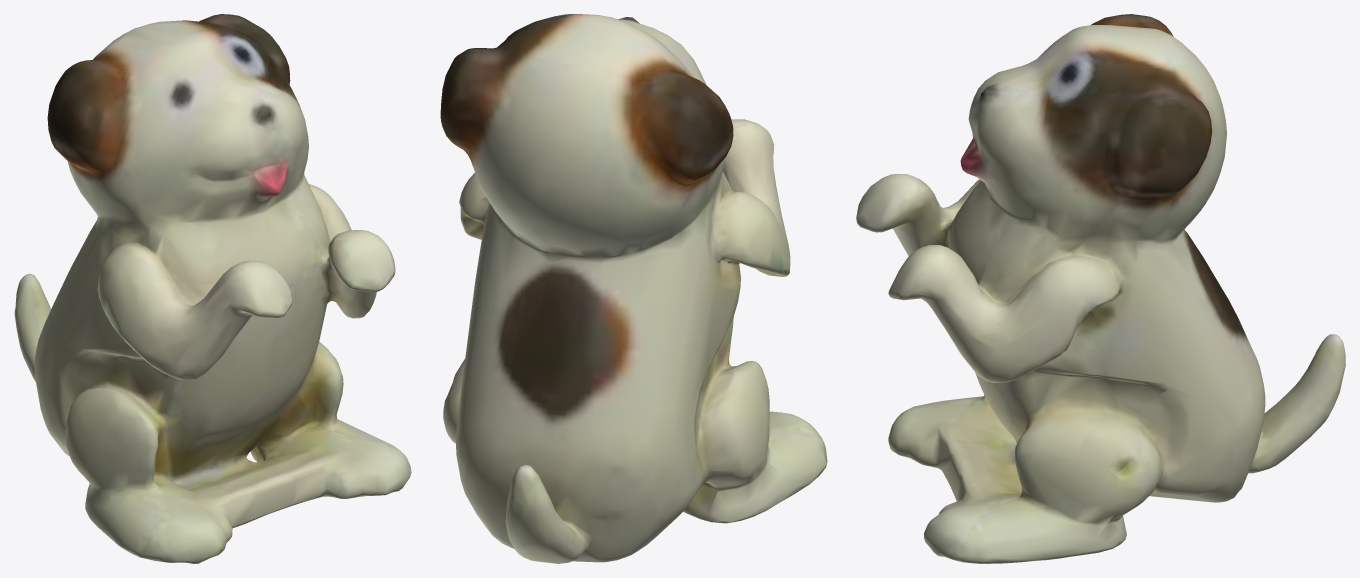
Rendered from Toysmith_Windem_Up_Flippin_Animals_Dog-high.glb.
The picture shows the model from 3 angles, left to right: view 1: azimuth 30°, elevation 25°; view 2: azimuth 150°, elevation 25°; view 3: azimuth 270°, elevation 25°; orthographic projection. The views are drawn at different scales.
Parts seen in each view (by area): view 1: Toysmith_Windem_Up_Flippin_Animals_Dog; view 2: Toysmith_Windem_Up_Flippin_Animals_Dog; view 3: Toysmith_Windem_Up_Flippin_Animals_Dog.
Boxes of the visible parts, left/top/right/bottom form: Toysmith_Windem_Up_Flippin_Animals_Dog: left=14, top=14, right=411, bottom=563; Toysmith_Windem_Up_Flippin_Animals_Dog: left=440, top=14, right=827, bottom=563; Toysmith_Windem_Up_Flippin_Animals_Dog: left=856, top=14, right=1345, bottom=563.
Bounding box in the file's own units: 0.0348 × 0.0499 × 0.0484.
1 material, 1 textured.
